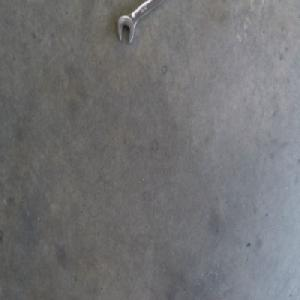Wrench: (116, 0, 161, 43)
